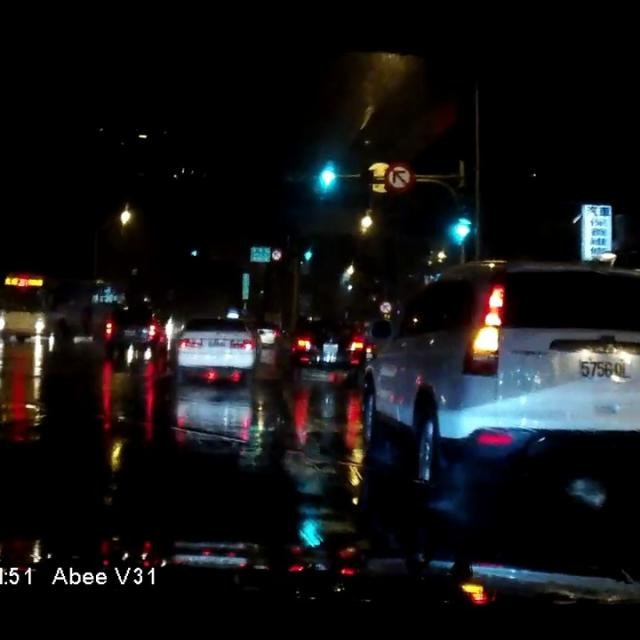Car: (359, 258, 639, 492), (0, 266, 108, 344), (284, 311, 369, 374), (172, 314, 255, 378), (105, 294, 177, 350), (248, 319, 276, 349)
